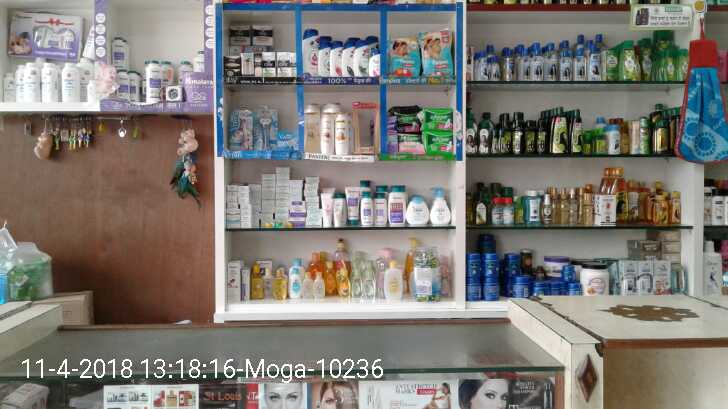venus: (253, 108, 278, 149), (229, 108, 253, 149), (280, 129, 299, 149)
